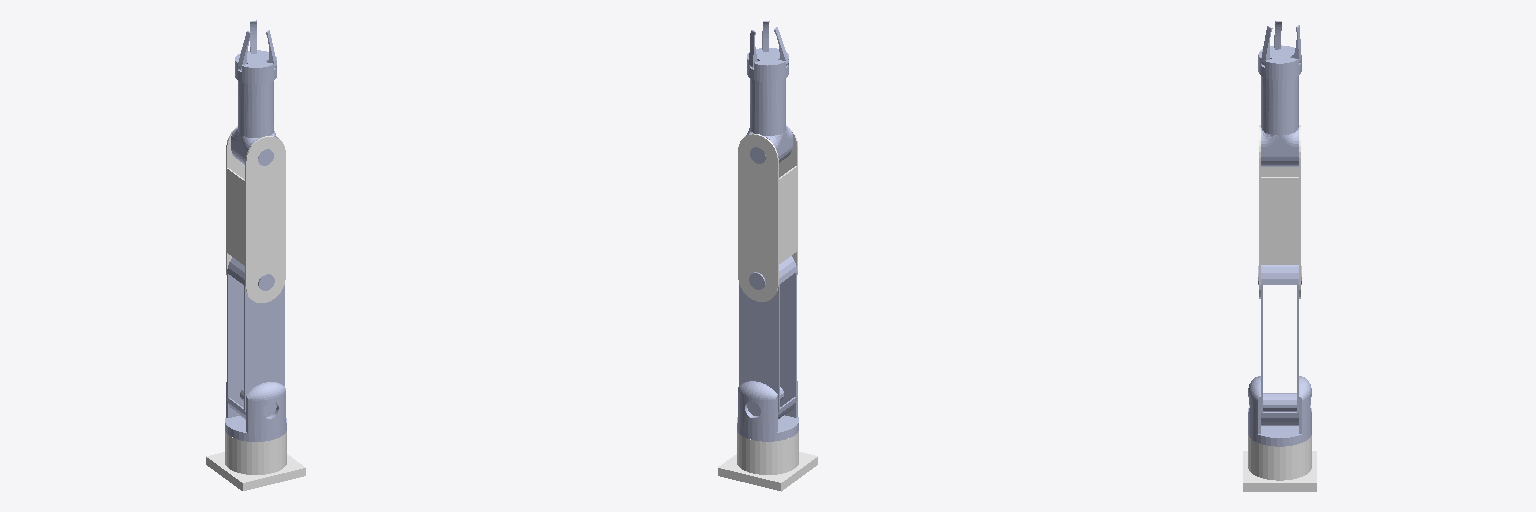
robot.urdf — new_robot:
<?xml version="1.0" encoding="utf-8"?>
<!-- This URDF was automatically created by SolidWorks to URDF Exporter! Originally created by [author] ([email redacted]) 
     Commit Version: 1.6.0-4-g7f85cfe  Build Version: 1.6.7995.38578
     For more information, please see http://wiki.ros.org/sw_urdf_exporter -->
<robot
  name="new_robot">
  <link name="world" />
  <link
    name="base_link">
    <inertial>
      <origin
        xyz="5.6802E-18 1.0977E-17 0.10718"
        rpy="0 0 0" />
      <mass
        value="1.4266" />
      <inertia
        ixx="0.27368"
        ixy="-8.7055E-18"
        ixz="1.2151E-18"
        iyy="0.27368"
        iyz="6.4171E-18"
        izz="0.3697" />
    </inertial>
    <visual>
      <origin
        xyz="0 0 0"
        rpy="0 0 0" />
      <geometry>
        <mesh
          filename="package://new_robot/meshes/base_link.dae" />
      </geometry>
      <material
        name="">
        <color
          rgba="1 1 1 1" />
      </material>
    </visual>
    <collision>
      <origin
        xyz="0 0 0"
        rpy="0 0 0" />
      <geometry>
        <mesh
          filename="package://new_robot/meshes/base_link.dae" />
      </geometry>
    </collision>
  </link>
  <joint name="world_to_base_link=" type="fixed">
    <origin
      xyz="0 0 0.5"
      rpy="0 0 0" />
     <parent link="world"/>
     <child link="base_link"/>
</joint>
  <link
    name="Link1">
    <inertial>
      <origin
        xyz="9.7321E-08 -3.1895E-07 0.17349"
        rpy="0 0 0" />
      <mass
        value="1.3373" />
      <inertia
        ixx="0.21933"
        ixy="-6.9393E-08"
        ixz="-6.9578E-07"
        iyy="0.28616"
        iyz="5.2245E-07"
        izz="0.194" />
    </inertial>
    <visual>
      <origin
        xyz="0 0 0"
        rpy="0 0 0" />
      <geometry>
        <mesh
          filename="package://new_robot/meshes/link1.dae" />
      </geometry>
      <material
        name="">
        <color
          rgba="0.79216 0.81961 0.93333 1" />
      </material>
    </visual>
    <collision>
      <origin
        xyz="0 0 0"
        rpy="0 0 0" />
      <geometry>
        <mesh
          filename="package://new_robot/meshes/link1.dae" />
      </geometry>
    </collision>
  </link>
  <joint
    name="theta1"
    type="revolute">
    <origin
      xyz="0 0 0.14"
      rpy="0 0 -1.5708" />
    <parent
      link="base_link" />
    <child
      link="Link1" />
    <axis
      xyz="0 0 -1" />
    <limit
      lower="-3.1416"
      upper="3.1416"
      effort="1e+03"
      velocity="1.57" />
  </joint>
  <link
    name="Link2">
    <inertial>
      <origin
        xyz="-0.36305 -5.6248E-17 -1.237E-16"
        rpy="0 0 0" />
      <mass
        value="0.98588" />
      <inertia
        ixx="0.1025"
        ixy="-2.9268E-17"
        ixz="4.2384E-18"
        iyy="1.2333"
        iyz="1.1984E-17"
        izz="1.2018" />
    </inertial>
    <visual>
      <origin
        xyz="0 0 0"
        rpy="0 0 0" />
      <geometry>
        <mesh
          filename="package://new_robot/meshes/Link2.dae" />
      </geometry>
      <material
        name="">
        <color
          rgba="0.79216 0.81961 0.93333 1" />
      </material>
    </visual>
    <collision>
      <origin
        xyz="0 0 0"
        rpy="0 0 0" />
      <geometry>
        <mesh
          filename="package://new_robot/meshes/Link2.dae" />
      </geometry>
    </collision>
  </link>
  <joint
    name="theta2"
    type="revolute">
    <origin
      xyz="0 0 0.29"
      rpy="0 1.5708 0" />
    <parent
      link="Link1" />
    <child
      link="Link2" />
    <axis
      xyz="0 0 -1" />
    <limit
      lower="-1.5708"
      upper="1.5708"
      effort="1e+03"
      velocity="1.57" />
  </joint>
  <link
    name="Link3">
    <inertial>
      <origin
        xyz="0.375 4.2448E-16 -2.0719E-16"
        rpy="0 0 0" />
      <mass
        value="0.64576" />
      <inertia
        ixx="0.1081"
        ixy="1.4484E-16"
        ixz="-7.482E-17"
        iyy="0.41212"
        iyz="2.7366E-17"
        izz="0.40914" />
    </inertial>
    <visual>
      <origin
        xyz="0 0 0"
        rpy="0 0 0" />
      <geometry>
        <mesh
          filename="package://new_robot/meshes/Link3.dae" />
      </geometry>
      <material
        name="">
        <color
          rgba="1.0 1.0 1.0 1" />
      </material>
    </visual>
    <collision>
      <origin
        xyz="0 0 0"
        rpy="0 0 0" />
      <geometry>
        <mesh
          filename="package://new_robot/meshes/Link3.dae" />
      </geometry>
    </collision>
  </link>
  <joint
    name="theta3"
    type="revolute">
    <origin
      xyz="-0.75 0 0"
      rpy="0 0 3.1416" />
    <parent
      link="Link2" />
    <child
      link="Link3" />
    <axis
      xyz="0 0 -1" />
    <limit
      lower="-1.5708"
      upper="1.5708"
      effort="1e+03"
      velocity="1.57" />
  </joint>
  <link
    name="Link4">
    <inertial>
      <origin
        xyz="0.15857 1.7312E-11 4.9209E-11"
        rpy="0 0 0" />
      <mass
        value="1.7525" />
      <inertia
        ixx="0.1008"
        ixy="4.6324E-11"
        ixz="4.0478E-11"
        iyy="0.45113"
        iyz="-6.4583E-07"
        izz="0.44659" />
    </inertial>
    <visual>
      <origin
        xyz="0 0 0"
        rpy="0 0 0" />
      <geometry>
        <mesh
          filename="package://new_robot/meshes/Link4.dae" />
      </geometry>
      <material
        name="">
        <color
          rgba="0.79216 0.81961 0.93333 1" />
      </material>
    </visual>
    <collision>
      <origin
        xyz="0 0 0"
        rpy="0 0 0" />
      <geometry>
        <mesh
          filename="package://new_robot/meshes/Link4.dae" />
      </geometry>
    </collision>
  </link>
  <joint
    name="theta4"
    type="revolute">
    <origin
      xyz="0.75 0 0"
      rpy="0 0 0" />
    <parent
      link="Link3" />
    <child
      link="Link4" />
    <axis
      xyz="0 0 -1" />
    <limit
      lower="-1.8"
      upper="1.5708"
      effort="1e+03"
      velocity="1.57" />
  </joint>
  <link
    name="gripper">
    <inertial>
      <origin
        xyz="2.6512E-16 1.2984E-16 0.13193"
        rpy="0 0 0" />
      <mass
        value="0.4717" />
      <inertia
        ixx="0.023498"
        ixy="2.1684E-18"
        ixz="-4.1278E-19"
        iyy="0.023498"
        iyz="-7.0697E-19"
        izz="0.026594" />
    </inertial>
    <visual>
      <origin
        xyz="0 0 0"
        rpy="0 0 0" />
      <geometry>
        <mesh
          filename="package://new_robot/meshes/gripper.dae" />
      </geometry>
      <material
        name="">
        <color
          rgba="0.79216 0.81961 0.93333 1" />
      </material>
    </visual>
    <collision>
      <origin
        xyz="0 0 0"
        rpy="0 0 0" />
      <geometry>
        <mesh
          filename="package://new_robot/meshes/gripper.dae" />
      </geometry>
    </collision>
  </link>
  <joint
    name="yaw"
    type="revolute">
    <origin
      xyz="0.35 0 0"
      rpy="1.5708 1.4291 1.5708" />
    <parent
      link="Link4" />
    <child
      link="gripper" />
    <axis
      xyz="0 0 1" />
    <limit
      lower="-3.14"
      upper="3.14"
      effort="1e+03"
      velocity="1.57" />
  </joint>
  <link
    name="finger1">
    <inertial>
      <origin
        xyz="-0.02663 0.051522 -1.2968E-07"
        rpy="0 0 0" />
      <mass
        value="0.013632" />
      <inertia
        ixx="0.00035315"
        ixy="0.00017957"
        ixz="9.0105E-10"
        iyy="0.00011951"
        iyz="-1.8706E-09"
        izz="0.00044295" />
    </inertial>
    <visual>
      <origin
        xyz="0 0 0"
        rpy="0 0 0" />
      <geometry>
        <mesh
          filename="package://new_robot/meshes/finger1.dae" />
      </geometry>
      <material
        name="">
        <color
          rgba="0.79216 0.81961 0.93333 1" />
      </material>
    </visual>
    <collision>
      <origin
        xyz="0 0 0"
        rpy="0 0 0" />
      <geometry>
        <mesh
          filename="package://new_robot/meshes/finger1.dae" />
      </geometry>
    </collision>
  </link>
  <joint
    name="alfa1"
    type="revolute">
    <origin
      xyz="-0.085443 -0.04933 0.18"
      rpy="1.5708 0.37564 -2.618" />
    <parent
      link="gripper" />
    <child
      link="finger1" />
    <axis
      xyz="0 0 1" />
    <limit
      lower="-1"
      upper="0.6"
      effort="10"
      velocity="1.57" />
  </joint>
  <link
    name="finger2">
    <inertial>
      <origin
        xyz="-0.02663 0.051521 -1.2734E-07"
        rpy="0 0 0" />
      <mass
        value="0.013632" />
      <inertia
        ixx="0.00035316"
        ixy="0.00017957"
        ixz="6.0015E-10"
        iyy="0.00011951"
        iyz="-1.5746E-09"
        izz="0.00044295" />
    </inertial>
    <visual>
      <origin
        xyz="0 0 0"
        rpy="0 0 0" />
      <geometry>
        <mesh
          filename="package://new_robot/meshes/finger2.dae" />
      </geometry>
      <material
        name="">
        <color
          rgba="0.79216 0.81961 0.93333 1" />
      </material>
    </visual>
    <collision>
      <origin
        xyz="0 0 0"
        rpy="0 0 0" />
      <geometry>
        <mesh
          filename="package://new_robot/meshes/finger2.dae" />
      </geometry>
    </collision>
  </link>
  <joint
    name="alfa2"
    type="revolute">
    <origin
      xyz="0 0.098661 0.18"
      rpy="1.5708 0.25607 1.5708" />
    <parent
      link="gripper" />
    <child
      link="finger2" />
    <axis
      xyz="0 0 1" />
    <limit
      lower="-1.0"
      upper="0.6"
      effort="10"
      velocity="1.57" />
  </joint>
  <link
    name="finger3">
    <inertial>
      <origin
        xyz="-0.026625 0.051513 -1.2895E-07"
        rpy="0 0 0" />
      <mass
        value="0.013632" />
      <inertia
        ixx="0.00035315"
        ixy="0.00017957"
        ixz="9.2368E-10"
        iyy="0.00011951"
        iyz="-1.8522E-09"
        izz="0.00044295" />
    </inertial>
    <visual>
      <origin
        xyz="0 0 0"
        rpy="0 0 0" />
      <geometry>
        <mesh
          filename="package://new_robot/meshes/finger3.dae" />
      </geometry>
      <material
        name="">
        <color
          rgba="0.79216 0.81961 0.93333 1" />
      </material>
    </visual>
    <collision>
      <origin
        xyz="0 0 0"
        rpy="0 0 0" />
      <geometry>
        <mesh
          filename="package://new_robot/meshes/finger3.dae" />
      </geometry>
    </collision>
  </link>
  <joint
    name="alfa3"
    type="revolute">
    <origin
      xyz="0.085443 -0.04933 0.18"
      rpy="1.5708 0.53588 -0.5236" />
    <parent
      link="gripper" />
    <child
      link="finger3" />
    <axis
      xyz="0 0 1" />
    <limit
      lower="-1.0"
      upper="0.6"
      effort="10"
      velocity="1.57" />
  </joint>
<!-- Adding Ros control plugins -->
<!-- adding Actuators -->
  <transmission name="transmission1">
    <type>transmission_interface/SimpleTransmission</type>
    <joint name="theta1">
      <hardwareInterface>hardware_interface/EffortJointInterface</hardwareInterface>
    </joint>
    <actuator name="motor1">
      <mechanicalReduction>1</mechanicalReduction>
    </actuator>
  </transmission>
  <transmission name="transmission2">
    <type>transmission_interface/SimpleTransmission</type>
    <joint name="theta2">
      <hardwareInterface>hardware_interface/EffortJointInterface</hardwareInterface>
    </joint>
    <actuator name="motor2">
      <mechanicalReduction>1</mechanicalReduction>
    </actuator>
  </transmission>
  <transmission name="transmission3">
    <type>transmission_interface/SimpleTransmission</type>
    <joint name="theta3">
      <hardwareInterface>hardware_interface/EffortJointInterface</hardwareInterface>
    </joint>
    <actuator name="motor3">
      <mechanicalReduction>1</mechanicalReduction>
    </actuator>
  </transmission>
  <transmission name="transmission4">
    <type>transmission_interface/SimpleTransmission</type>
    <joint name="yaw">
      <hardwareInterface>hardware_interface/EffortJointInterface</hardwareInterface>
    </joint>
    <actuator name="motor4">
      <mechanicalReduction>1</mechanicalReduction>
    </actuator>
  </transmission>
  <transmission name="transmission5">
    <type>transmission_interface/SimpleTransmission</type>
    <joint name="alfa1">
      <hardwareInterface>hardware_interface/EffortJointInterface</hardwareInterface>
    </joint>
    <actuator name="motor5">
      <mechanicalReduction>1</mechanicalReduction>
    </actuator>
  </transmission>

  <transmission name="transmission6">
    <type>transmission_interface/SimpleTransmission</type>
    <joint name="alfa2">
      <hardwareInterface>hardware_interface/EffortJointInterface</hardwareInterface>
    </joint>
    <actuator name="motor6">
      <mechanicalReduction>1</mechanicalReduction>
    </actuator>
  </transmission>
  
  <transmission name="transmission7">
    <type>transmission_interface/SimpleTransmission</type>
    <joint name="alfa3">
      <hardwareInterface>hardware_interface/EffortJointInterface</hardwareInterface>
    </joint>
    <actuator name="motor7">
      <mechanicalReduction>1</mechanicalReduction>
    </actuator>
  </transmission>

   <transmission name="transmission8">
    <type>transmission_interface/SimpleTransmission</type>
    <joint name="theta4">
      <hardwareInterface>hardware_interface/EffortJointInterface</hardwareInterface>
    </joint>
    <actuator name="motor8">
      <mechanicalReduction>1</mechanicalReduction>
    </actuator>
  </transmission>
  <!-- Adding Gazebo plugin-->
  <gazebo>
  <plugin name="gazebo_ros_control" filename="libgazebo_ros_control.so">
  <robotNamespace>/</robotNamespace>
  </plugin>
  </gazebo>

</robot>

--- What the picture shows (computed from the rendered views, not written in the file) ---
Views: 3 orthographic renders of the robot side by side, from view 1: azimuth 30°, elevation 25°; view 2: azimuth 150°, elevation 25°; view 3: azimuth 270°, elevation 25°.
Model new_robot with 10 links and 9 joints (8 revolute, 1 fixed), rooted at world, posed all joints at 0.
Links seen in each view (by area): view 1: Link3, Link2, base_link, Link4, Link1, gripper; view 2: Link3, Link2, base_link, Link4, Link1, gripper; view 3: Link3, base_link, Link4, Link2, Link1, gripper.
Boxes of the visible links, x1,y1,x2,y2 form: Link3: (226,126,285,302); Link2: (227,257,284,419); base_link: (206,431,305,490); Link4: (231,81,278,165); Link1: (225,382,286,441); gripper: (235,50,276,84); Link3: (738,124,797,301); Link2: (739,256,796,418); base_link: (718,431,817,491); Link4: (746,78,792,163); Link1: (737,381,798,441); gripper: (747,48,788,81); Link3: (1259,125,1300,298); base_link: (1243,435,1316,491); Link4: (1261,76,1298,166); Link2: (1258,265,1301,425); Link1: (1248,376,1311,446); gripper: (1258,45,1301,80).
Size in the robot's own frame: 0.4 by 0.4 by 2.67 metres.
9 mesh visuals loaded from 9 distinct referenced files (9 Collada DAE).